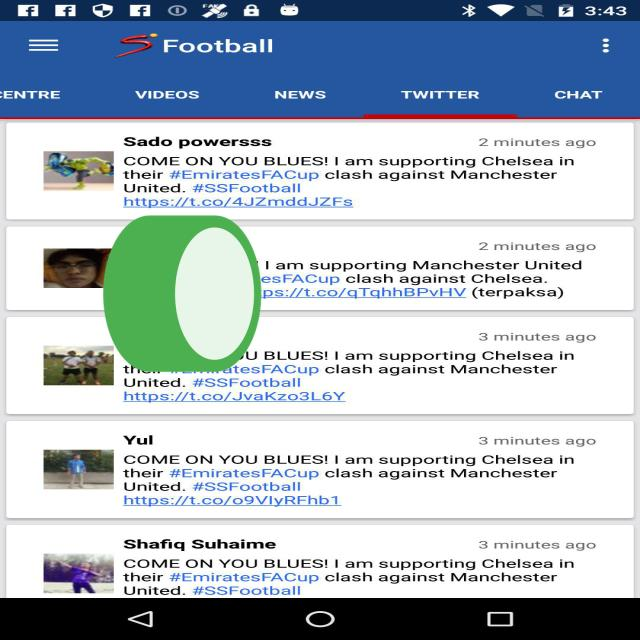social proof: (96, 155, 268, 444)
